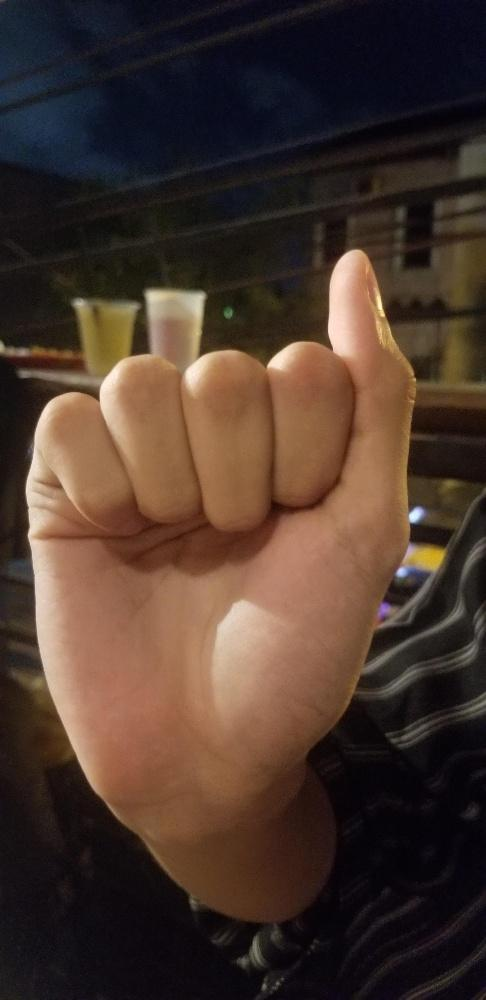a: (21, 241, 415, 802)
